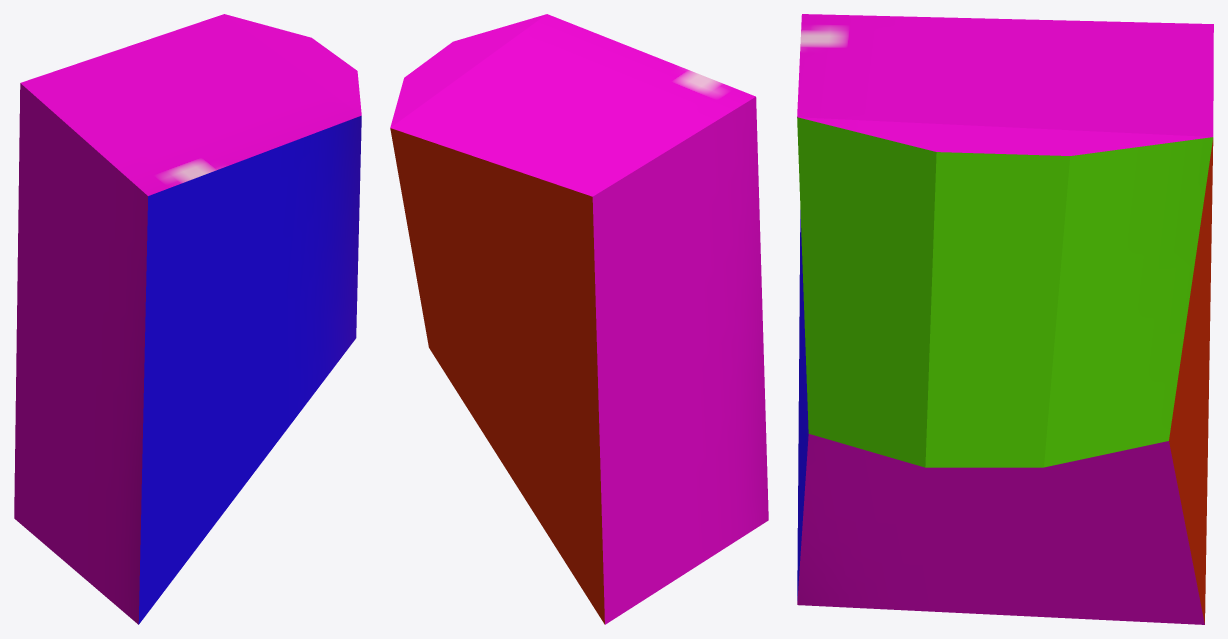
The model's file is Statue2-5.fbx.
3 renders of one model, left to right at view 1: azimuth 30°, elevation 25°; view 2: azimuth 150°, elevation 25°; view 3: azimuth 270°, elevation 25°, orthographic. The views are drawn at different scales.
Visible parts, largest first — view 1: Cube.010; view 2: Cube.010; view 3: Cube.010.
Boxes of the visible parts, left/top/right/bottom form: Cube.010: left=14, top=14, right=361, bottom=624; Cube.010: left=390, top=14, right=768, bottom=624; Cube.010: left=797, top=14, right=1213, bottom=624.
Bounding box in the file's own units: 76.69 × 125 × 72.76.
